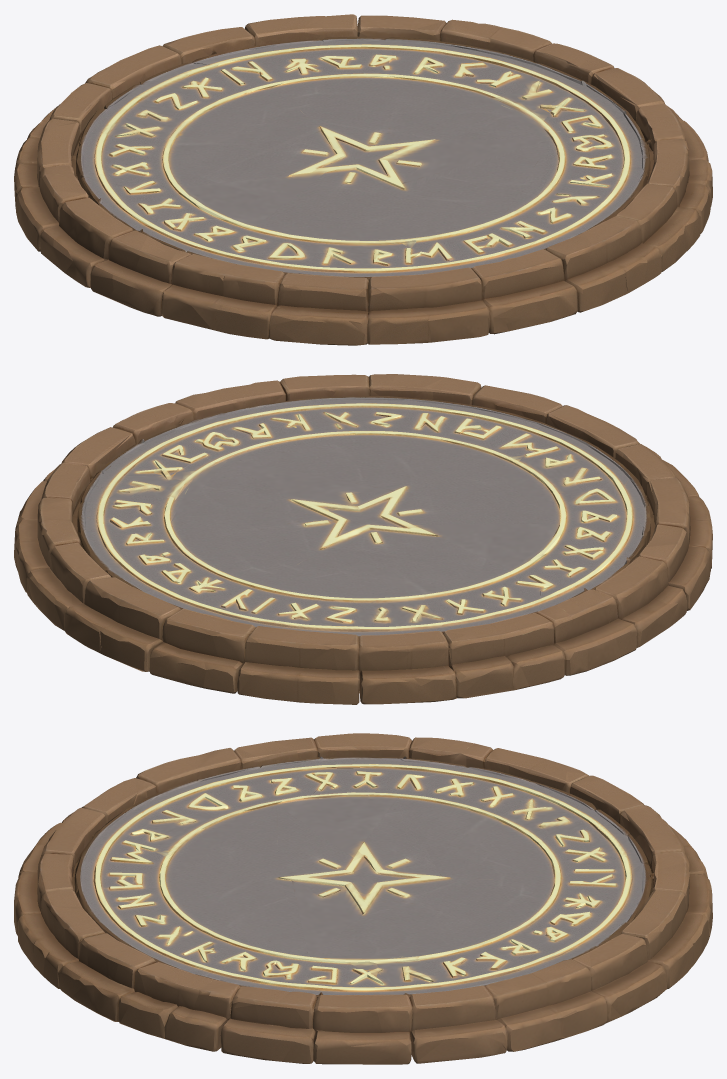
Rendered from rune_gate.glb.
3 views of the same model, one above another, from view 1: azimuth 30°, elevation 25°; view 2: azimuth 150°, elevation 25°; view 3: azimuth 270°, elevation 25° (orthographic).
Visible parts, largest first — view 1: output_unwrapped; view 2: output_unwrapped; view 3: output_unwrapped.
Part boxes in pixels (<box>): output_unwrapped: <box>14,14,712,345</box>; output_unwrapped: <box>14,374,712,704</box>; output_unwrapped: <box>14,733,712,1064</box>.
Bounding box in the file's own units: 1.9 × 0.1502 × 1.9.
1 material, 1 textured.
